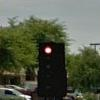Traffic light: (34, 34, 90, 100)
